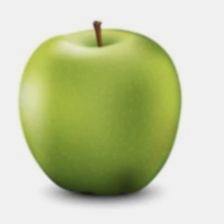apple: (35, 10, 224, 173)
